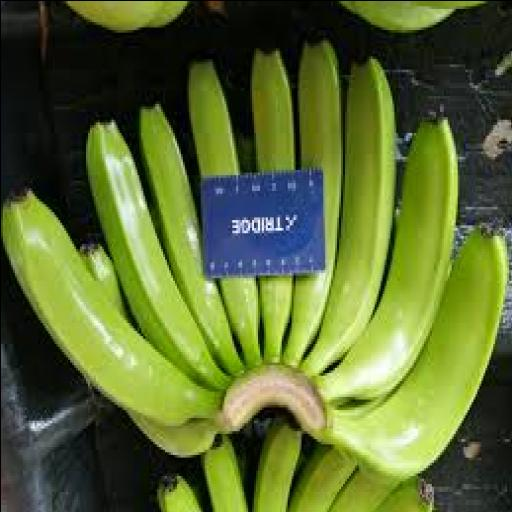banana: (2, 191, 221, 422), (327, 230, 506, 477), (317, 119, 456, 401), (86, 122, 229, 387), (301, 56, 395, 374), (139, 103, 241, 372), (281, 40, 341, 364), (186, 59, 239, 174), (250, 48, 294, 171), (252, 417, 300, 511), (287, 444, 353, 511), (127, 410, 217, 456), (127, 410, 217, 456), (202, 436, 247, 511), (80, 241, 124, 311), (350, 1, 452, 31), (66, 1, 162, 31), (329, 470, 395, 511), (372, 478, 432, 511), (157, 473, 199, 511), (147, 1, 187, 26), (410, 1, 484, 7)
